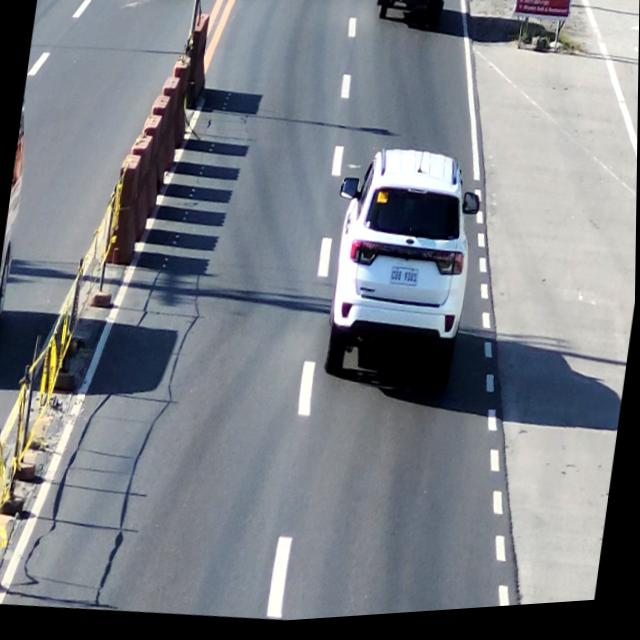Car: (318, 146, 489, 402)
License-Plate: (387, 266, 424, 297)
